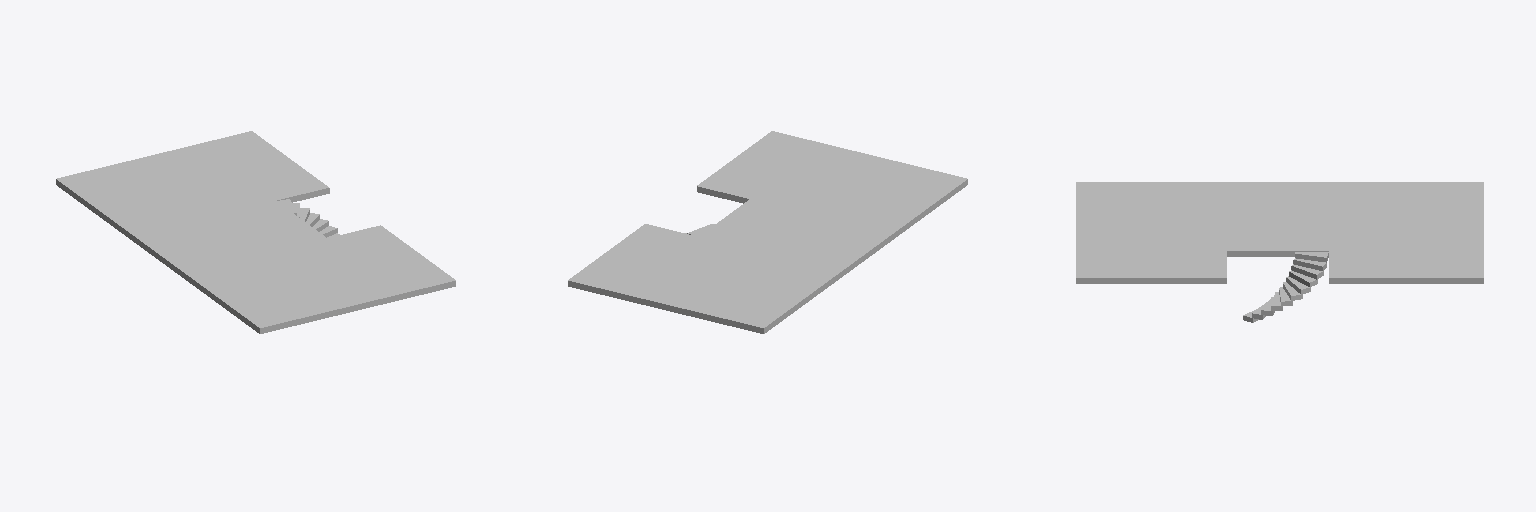
File: floor2_ground.obj
The picture shows the model from 3 angles: view 1: azimuth 30°, elevation 25°; view 2: azimuth 150°, elevation 25°; view 3: azimuth 270°, elevation 25°; orthographic projection.
Visible parts, largest first — view 1: Cube.355_Cube.618; view 2: Cube.355_Cube.618; view 3: Cube.355_Cube.618.
Part boxes in pixels (left/top/right/bottom): Cube.355_Cube.618: left=56, top=131, right=455, bottom=333; Cube.355_Cube.618: left=568, top=131, right=967, bottom=333; Cube.355_Cube.618: left=1076, top=182, right=1483, bottom=322.
Bounding box in the file's own units: 7.74 × 1.99 × 13.95.